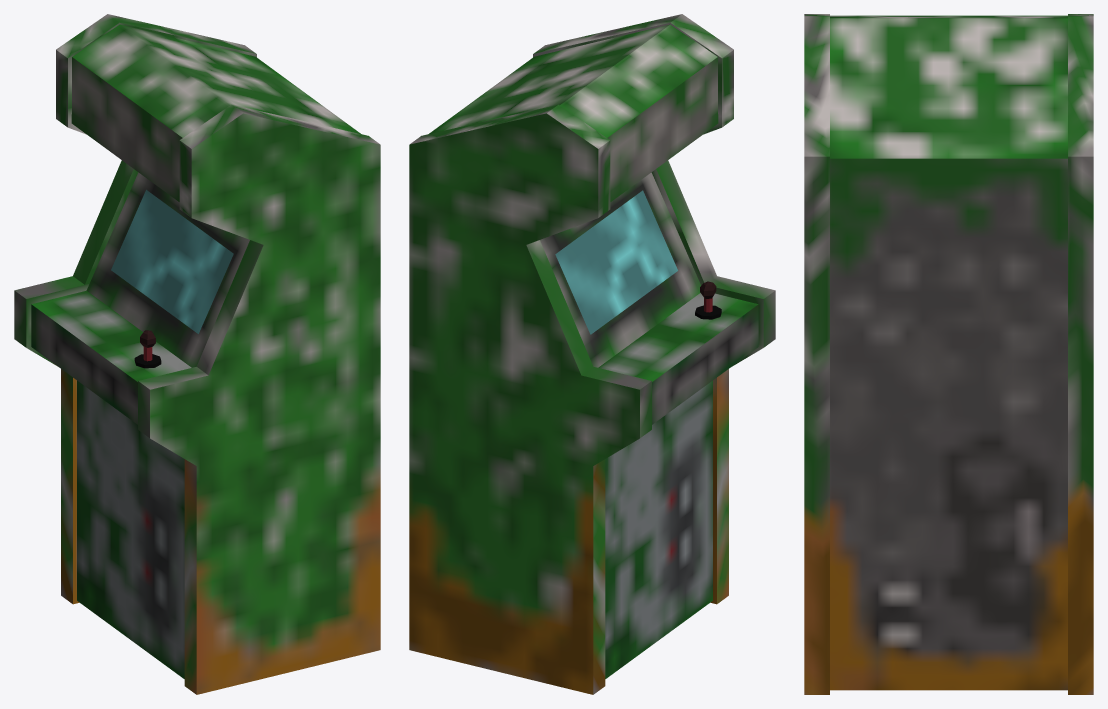
The model's file is BrokenArcadeMachine.fbx.
The picture shows the model from 3 angles, left to right: view 1: azimuth 30°, elevation 25°; view 2: azimuth 150°, elevation 25°; view 3: azimuth 270°, elevation 25°; orthographic projection. The views are drawn at different scales.
Parts seen in each view (by area): view 1: Arcade; view 2: Arcade; view 3: Arcade.
Boxes of the visible parts, <box> form: Arcade: <box>14,14,380,694</box>; Arcade: <box>409,14,775,694</box>; Arcade: <box>804,14,1093,694</box>.
Bounding box in the file's own units: 179 × 422 × 182.
Materials: 1 (1 with a texture image).
